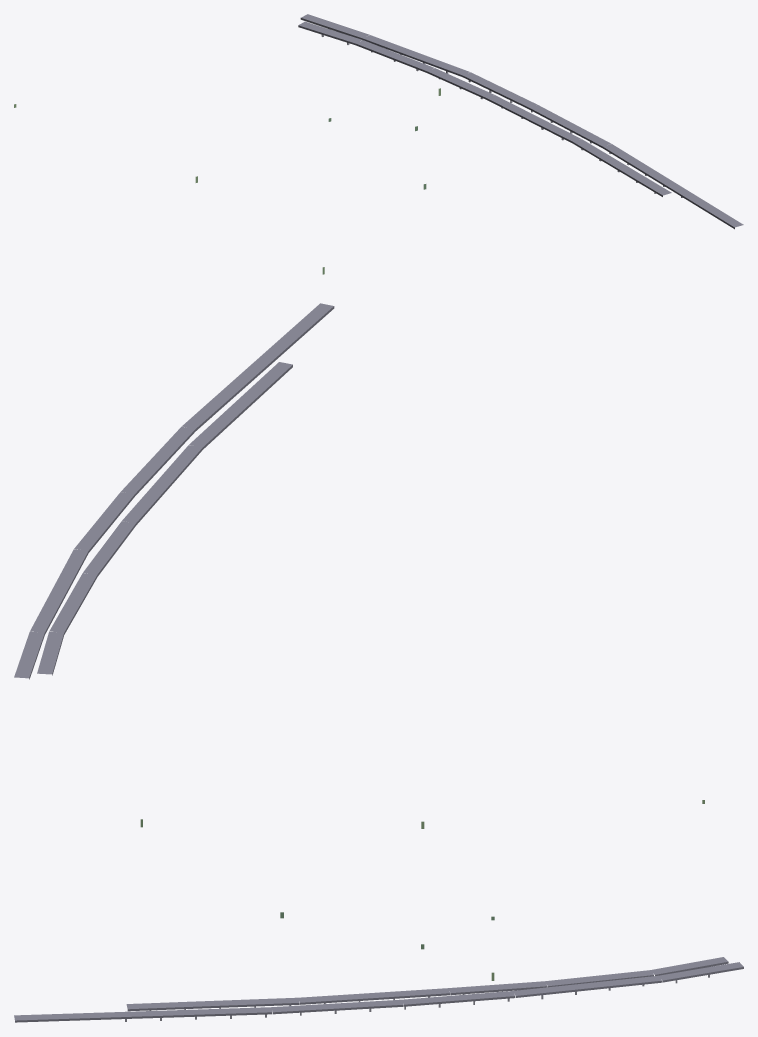
The picture shows the model from 3 angles, top to bottom: view 1: azimuth 30°, elevation 25°; view 2: azimuth 150°, elevation 25°; view 3: azimuth 270°, elevation 25°; orthographic projection. The views are drawn at different scales.
Bounding box in the file's own units: 458 × 15.67 × 624.
